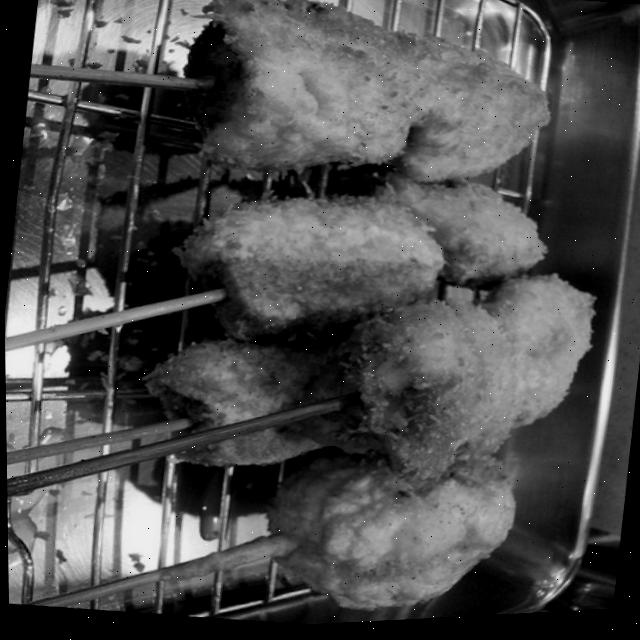蔬菜料理: (41, 0, 640, 638)
